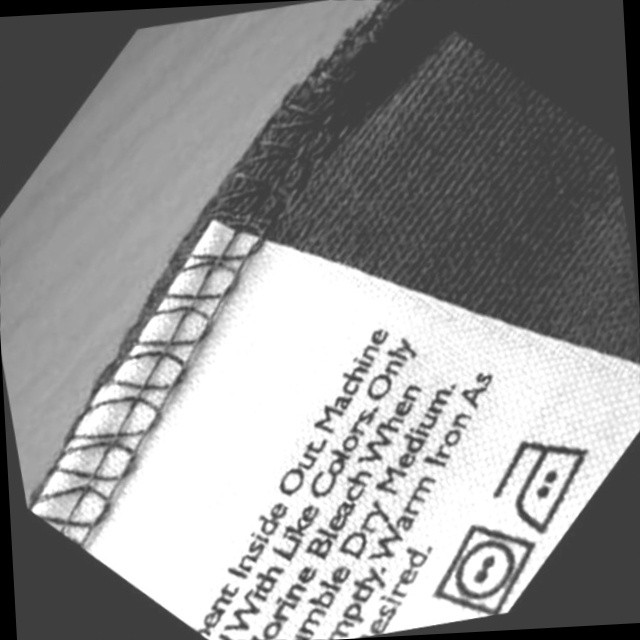iron_medium: (481, 422, 612, 544)
tumble_dry_medium: (420, 510, 554, 628)
